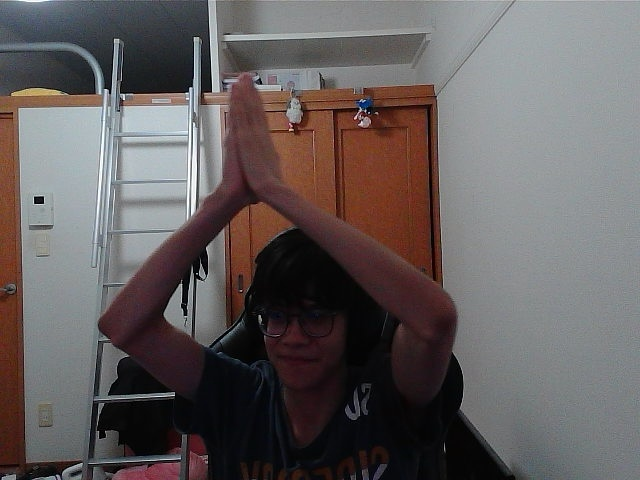pray: (240, 78, 273, 179)
